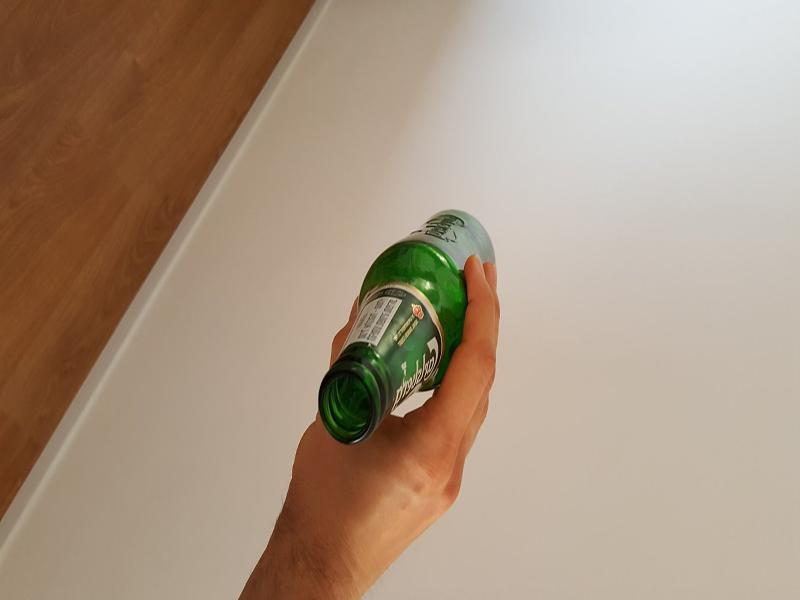Beer: (314, 209, 492, 445)
